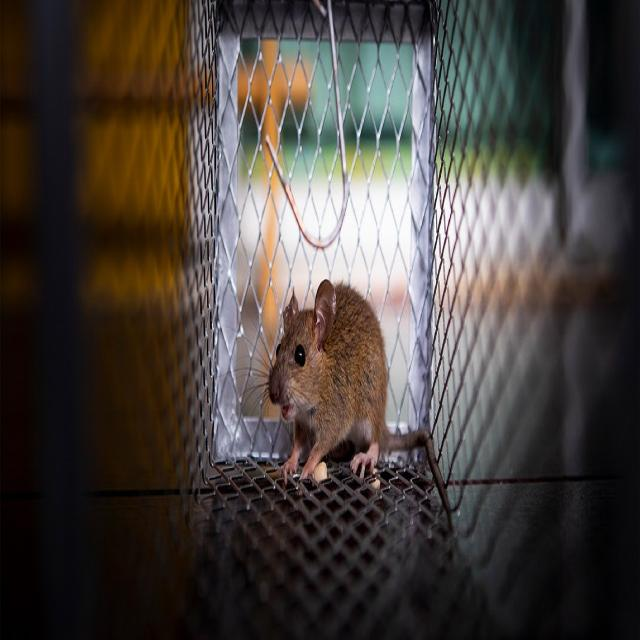rat: (264, 257, 394, 494)
